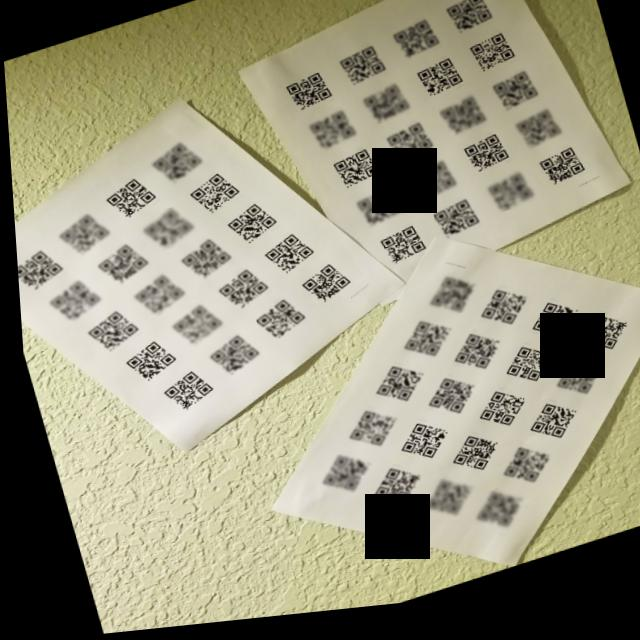QR_CODE: (34, 273, 103, 331), (541, 357, 606, 418), (148, 365, 215, 424), (517, 300, 584, 359), (49, 204, 114, 264), (274, 67, 341, 125), (178, 167, 246, 224), (467, 285, 532, 344), (334, 406, 400, 464), (384, 419, 450, 477), (111, 333, 178, 390), (385, 17, 449, 76), (290, 258, 355, 316), (458, 492, 523, 550), (252, 230, 318, 287), (305, 452, 371, 509), (354, 466, 420, 523), (130, 204, 198, 259), (143, 136, 207, 194), (218, 199, 283, 256), (160, 299, 225, 356), (74, 305, 140, 361), (407, 478, 473, 534), (567, 316, 633, 372), (207, 263, 271, 320), (490, 346, 554, 403), (169, 234, 234, 290), (436, 434, 501, 490), (412, 375, 475, 432), (86, 238, 150, 294), (440, 334, 504, 390), (515, 404, 579, 460), (486, 448, 550, 504), (330, 44, 395, 99), (96, 173, 161, 228), (390, 319, 453, 375), (363, 362, 426, 418), (416, 275, 478, 331), (377, 121, 440, 176), (465, 389, 528, 444), (320, 149, 384, 203), (484, 73, 549, 126), (462, 33, 524, 88), (124, 270, 186, 325), (299, 108, 362, 162), (198, 332, 261, 385), (247, 297, 306, 352), (347, 187, 408, 240), (529, 151, 591, 203), (509, 111, 567, 166), (455, 137, 515, 190), (438, 0, 502, 49), (402, 162, 461, 215), (13, 239, 66, 298), (355, 86, 416, 136), (371, 227, 427, 280), (478, 176, 537, 226), (434, 100, 490, 151), (427, 201, 483, 251), (412, 61, 469, 110)
